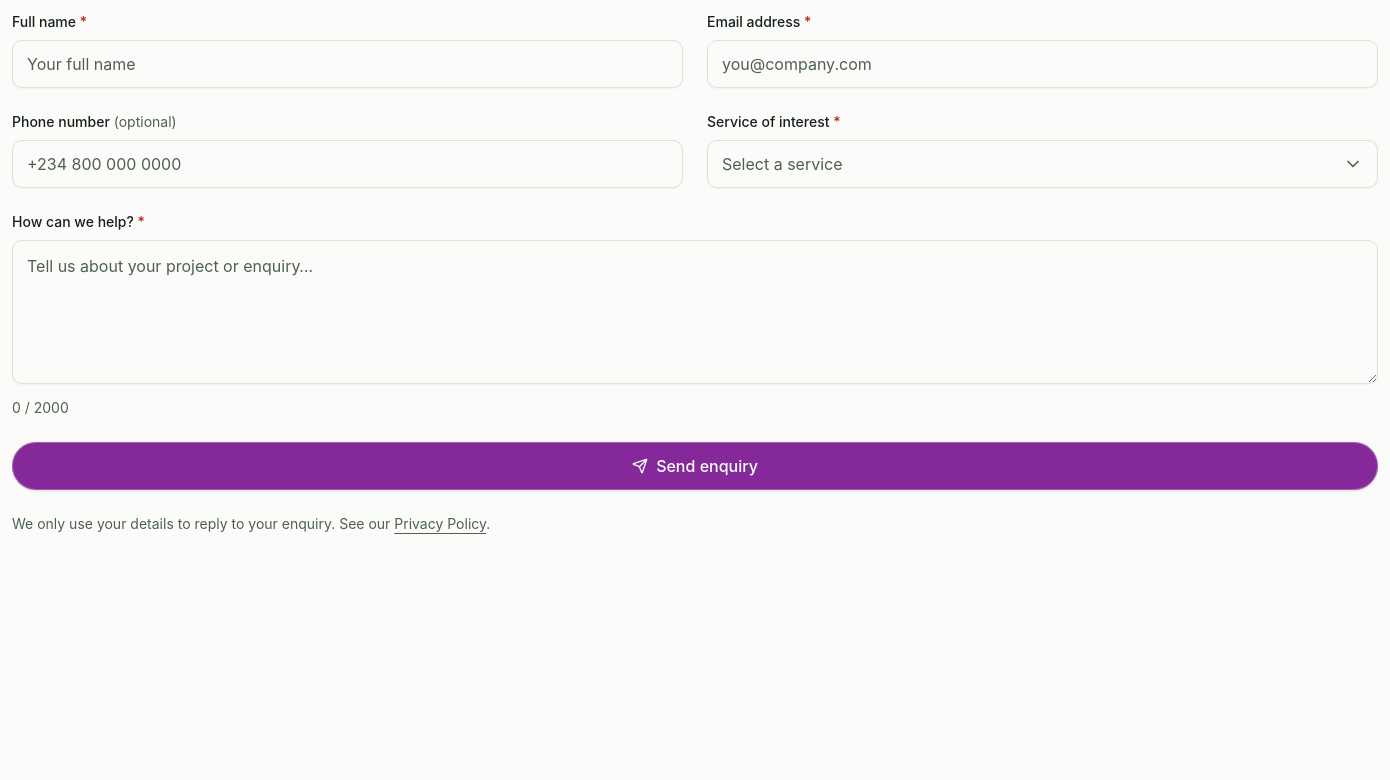
Test case: EnquiryForm: service dropdown with a mouse › is a styled listbox button with every service under its pillar
The image size is (1390, 780).
What coordinates should you click on to do the following:
click the dropdown named "service of interest"
I would click on:
 (782, 164)
Its box is [707, 140, 1378, 188].
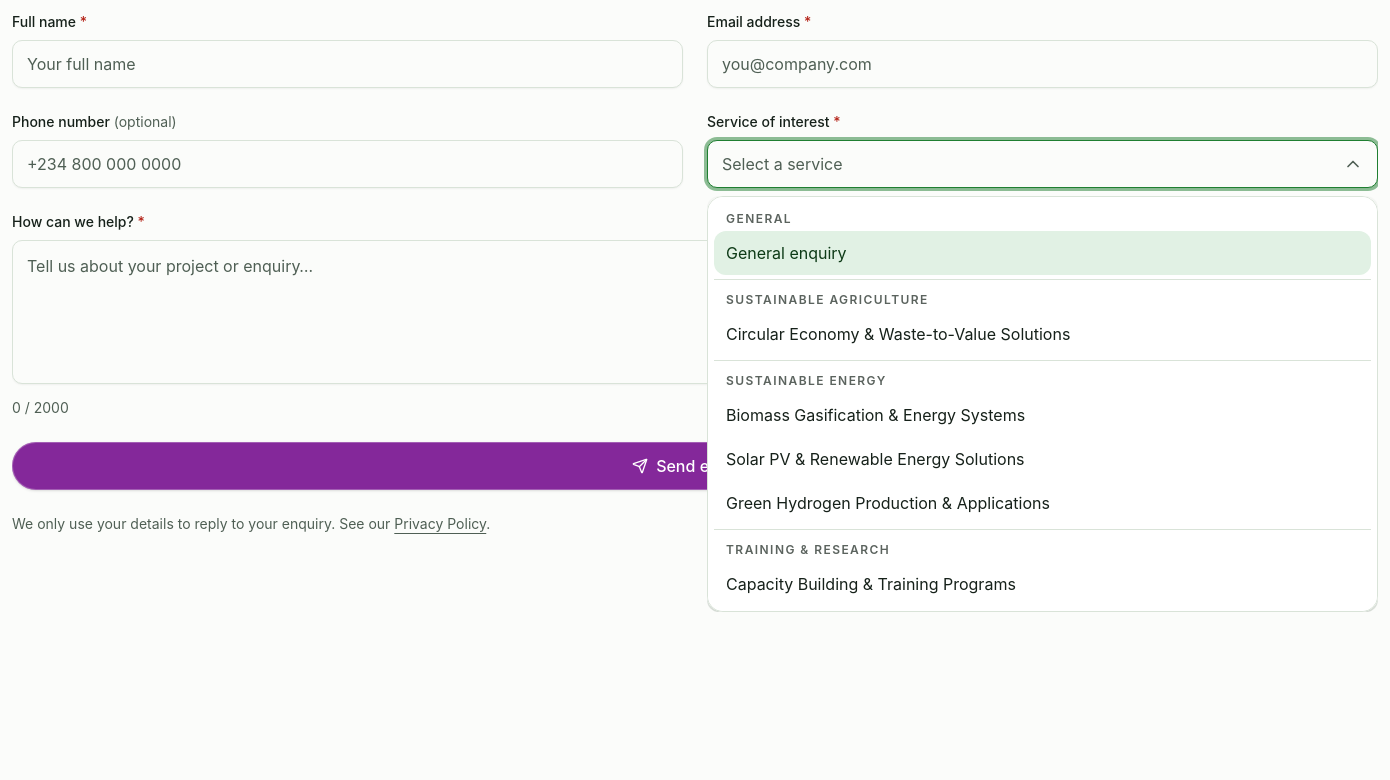
expect the text "General" is shown: met, box [726, 211, 792, 226]
expect the text "Sustainable Agriculture" is shown: met, box [714, 279, 1371, 312]
expect the text "Sustainable Energy" is shown: met, box [714, 360, 1371, 393]
